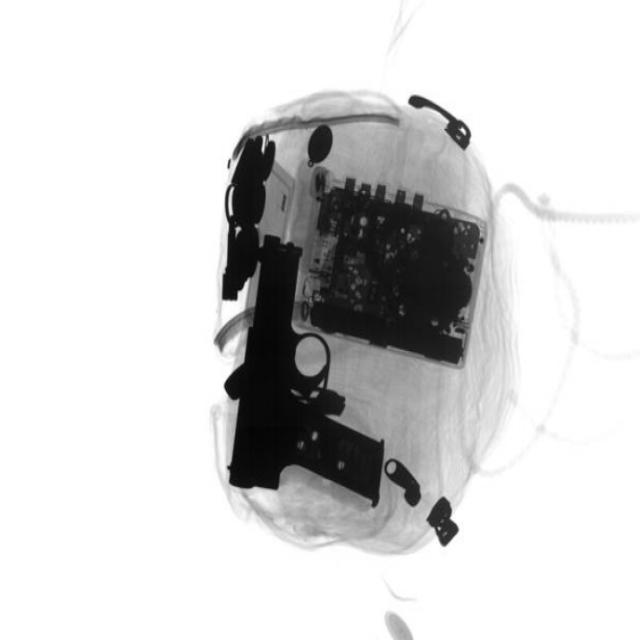GUN: (224, 256, 385, 500)
